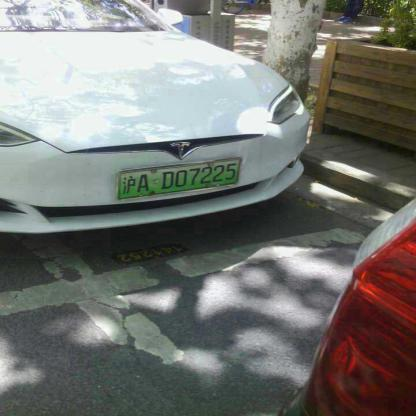lp: (116, 157, 241, 201)
